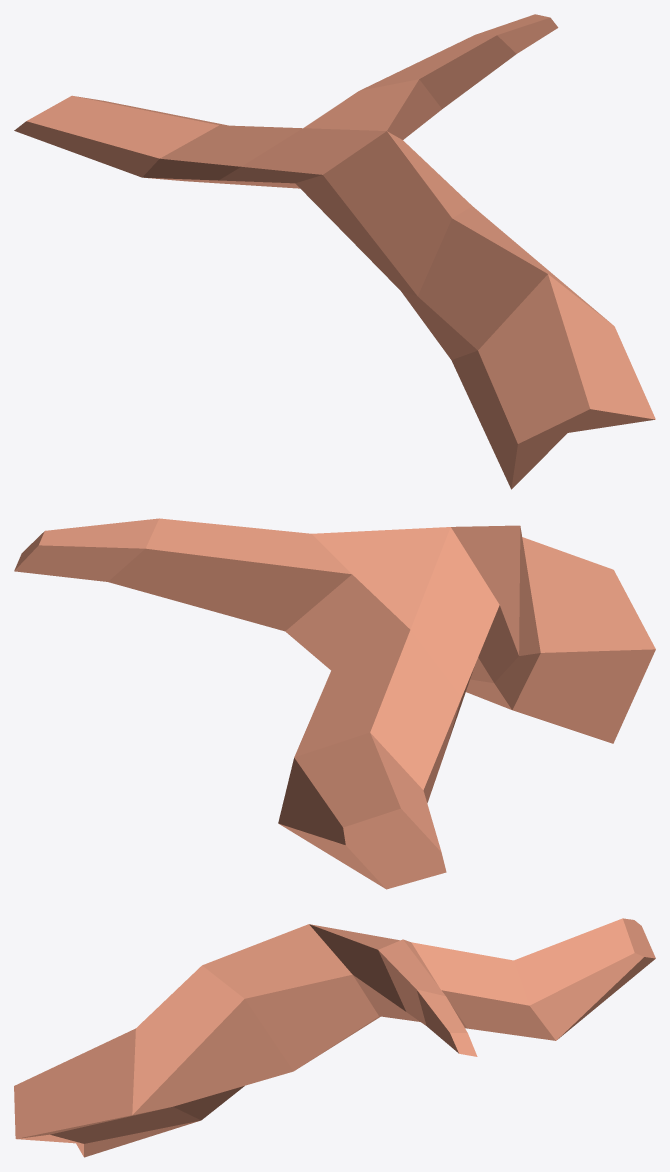
The model's file is Low_Branch.fbx.
3 renders of one model, top to bottom at view 1: azimuth 30°, elevation 25°; view 2: azimuth 150°, elevation 25°; view 3: azimuth 270°, elevation 25°, orthographic. The views are drawn at different scales.
Visible parts, largest first — view 1: low poly braches.001; view 2: low poly braches.001; view 3: low poly braches.001.
Boxes of the visible parts, bbox=[...] form: low poly braches.001: bbox=[14, 14, 655, 489]; low poly braches.001: bbox=[14, 518, 655, 889]; low poly braches.001: bbox=[14, 918, 655, 1157].
Size of the model in its own units: 94.73 by 56.34 by 135.
